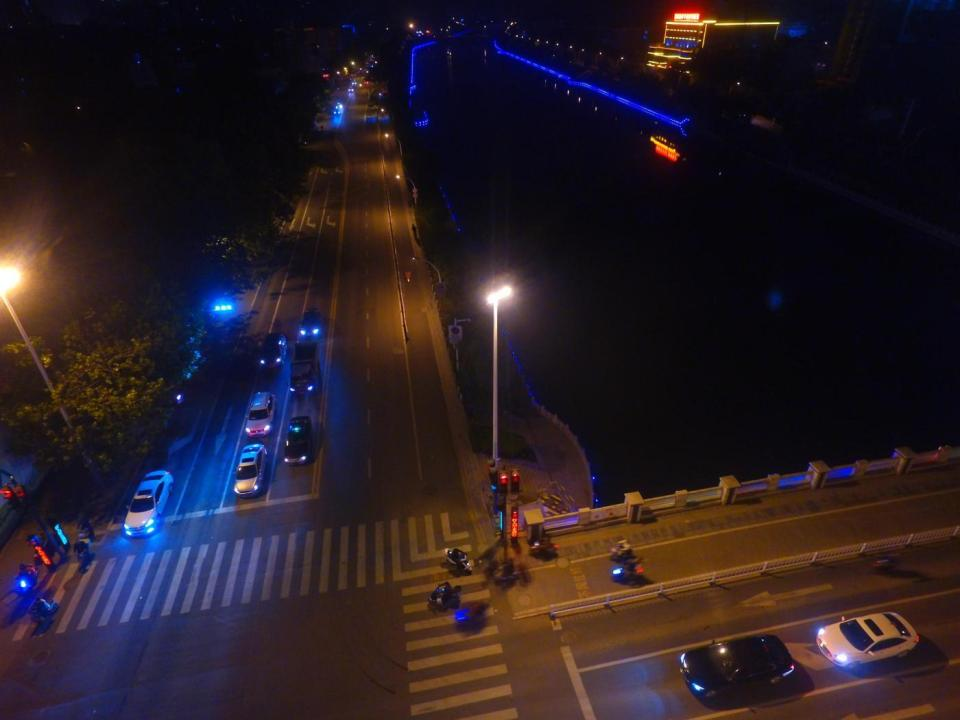car: (678, 632, 798, 698), (812, 609, 919, 675), (121, 469, 175, 540), (230, 444, 266, 498), (242, 390, 276, 437), (254, 330, 289, 371), (283, 416, 312, 465), (297, 307, 325, 336)
truck: (289, 342, 325, 395)
